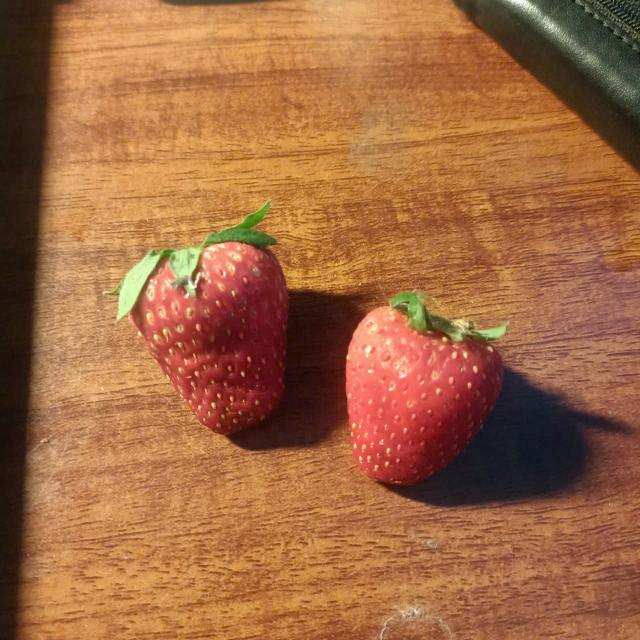DauTay: (115, 239, 295, 429), (340, 296, 502, 500)
